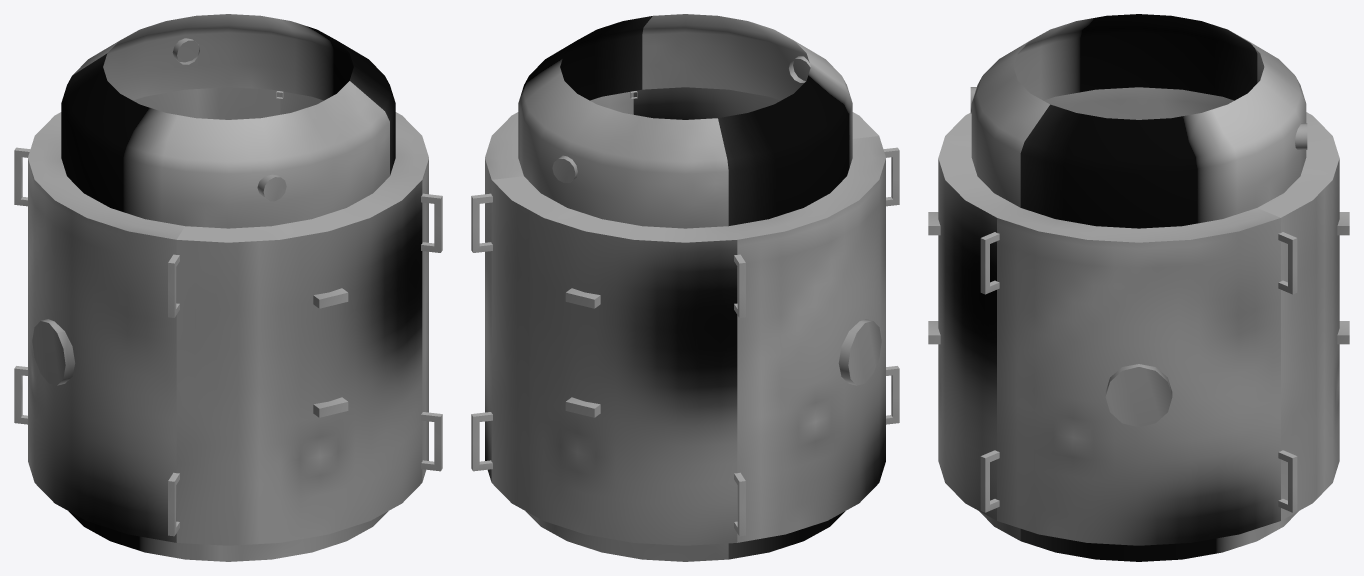
Rendered from power_compartment.fbx.
3 renders of one model, left to right at view 1: azimuth 30°, elevation 25°; view 2: azimuth 150°, elevation 25°; view 3: azimuth 270°, elevation 25°, orthographic.
Visible parts, largest first — view 1: mesh; view 2: mesh; view 3: mesh.
Boxes of the visible parts, x1=… form: mesh: x1=14, y1=14, x2=442, y2=561; mesh: x1=471, y1=14, x2=899, y2=561; mesh: x1=928, y1=14, x2=1349, y2=561.
Bounding box in the file's own units: 1.55 × 1.75 × 1.58.
